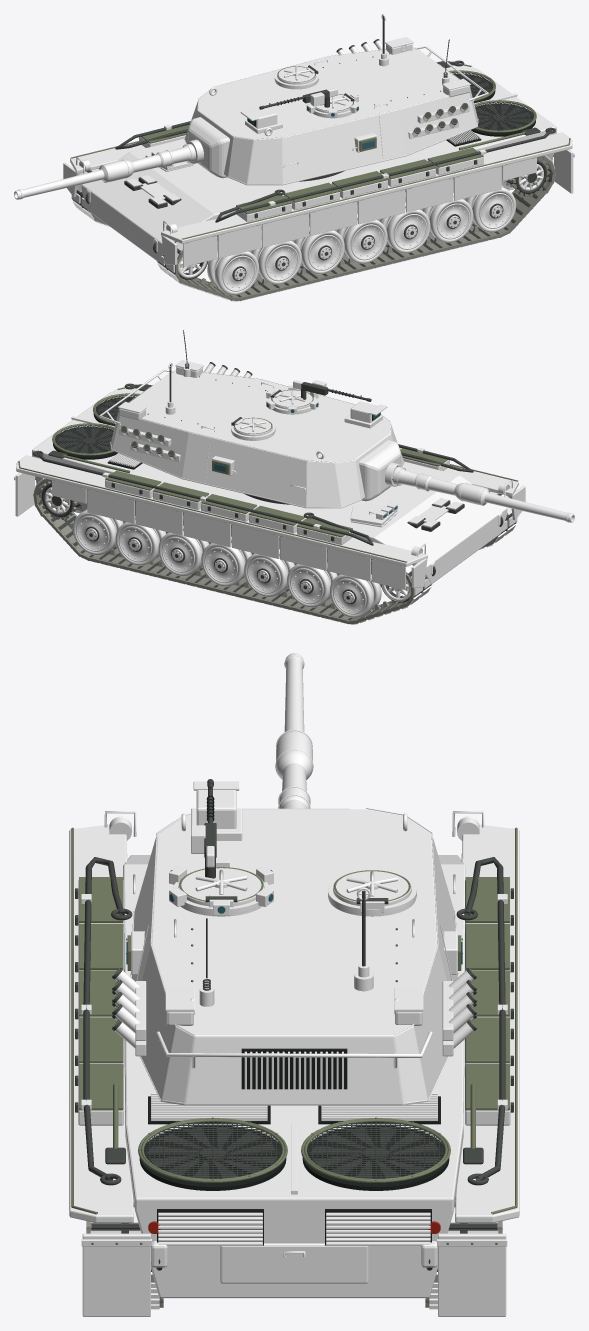
The model's file is Leopard_2_early_prototype.glb.
3 renders of one model, top to bottom at view 1: azimuth 30°, elevation 25°; view 2: azimuth 150°, elevation 25°; view 3: azimuth 270°, elevation 25°, orthographic. The views are drawn at different scales.
Visible parts, largest first — view 1: Turret_Main_WeldedShell, Hull_Main_WeldedShell, R_FullLength_Fender, Gun_ExternalTube_HollowMuzzle, Gun_Mantlet_Armored_Shield, R_TowCable_Main, R_Skirt_Panel_04, R_Skirt_Panel_05, R_Skirt_Panel_07, R_Skirt_Panel_06, R_Skirt_Panel_03, R_Skirt_Panel_02 (+35 smaller); view 2: Turret_Main_WeldedShell, Hull_Main_WeldedShell, L_FullLength_Fender, Gun_ExternalTube_HollowMuzzle, Gun_Mantlet_Armored_Shield, L_TowCable_Main, L_Skirt_Panel_04, L_Skirt_Panel_05, L_Skirt_Panel_07, L_Skirt_Panel_06, L_Skirt_Panel_03, L_Skirt_Panel_02 (+37 smaller); view 3: Turret_Main_WeldedShell, Hull_Main_WeldedShell, L_FullLength_Fender, R_FullLength_Fender, Rear_Service_Access_Hatch, L_Rear_RubberFlap, R_Rear_RubberFlap, Gun_ExternalTube_HollowMuzzle, Turret_Rear_Vent_Recess, L_Fan_Recess, R_Fan_Recess, L_TowCable_Main (+24 smaller).
Part boxes in pixels (left/top/right/bottom): Turret_Main_WeldedShell: left=185, top=48, right=477, bottom=185; Hull_Main_WeldedShell: left=81, top=68, right=556, bottom=264; R_FullLength_Fender: left=161, top=132, right=572, bottom=243; Gun_ExternalTube_HollowMuzzle: left=14, top=144, right=195, bottom=199; Gun_Mantlet_Armored_Shield: left=188, top=117, right=229, bottom=178; R_TowCable_Main: left=215, top=129, right=551, bottom=222; R_Skirt_Panel_04: left=309, top=201, right=357, bottom=235; R_Skirt_Panel_05: left=358, top=190, right=405, bottom=224; R_Skirt_Panel_07: left=454, top=166, right=501, bottom=200; R_Skirt_Panel_06: left=406, top=178, right=453, bottom=212; R_Skirt_Panel_03: left=262, top=213, right=308, bottom=247; R_Skirt_Panel_02: left=218, top=224, right=261, bottom=258; Turret_Main_WeldedShell: left=111, top=371, right=403, bottom=508; Hull_Main_WeldedShell: left=32, top=391, right=507, bottom=587; L_FullLength_Fender: left=16, top=455, right=427, bottom=566; Gun_ExternalTube_HollowMuzzle: left=393, top=467, right=574, bottom=522; Gun_Mantlet_Armored_Shield: left=359, top=440, right=400, bottom=501; L_TowCable_Main: left=37, top=452, right=373, bottom=545; L_Skirt_Panel_04: left=231, top=524, right=279, bottom=558; L_Skirt_Panel_05: left=183, top=513, right=230, bottom=547; L_Skirt_Panel_07: left=87, top=489, right=134, bottom=523; L_Skirt_Panel_06: left=135, top=501, right=182, bottom=535; L_Skirt_Panel_03: left=280, top=536, right=326, bottom=570; L_Skirt_Panel_02: left=327, top=547, right=370, bottom=581; Turret_Main_WeldedShell: left=131, top=809, right=457, bottom=1105; Hull_Main_WeldedShell: left=123, top=855, right=465, bottom=1298; L_FullLength_Fender: left=455, top=824, right=519, bottom=1222; R_FullLength_Fender: left=69, top=824, right=133, bottom=1222; Rear_Service_Access_Hatch: left=220, top=1243, right=368, bottom=1283; L_Rear_RubberFlap: left=438, top=1233, right=506, bottom=1316; R_Rear_RubberFlap: left=82, top=1233, right=150, bottom=1316; Gun_ExternalTube_HollowMuzzle: left=276, top=653, right=312, bottom=808; Turret_Rear_Vent_Recess: left=241, top=1048, right=347, bottom=1089; L_Fan_Recess: left=302, top=1126, right=449, bottom=1190; R_Fan_Recess: left=139, top=1126, right=286, bottom=1190; L_TowCable_Main: left=464, top=857, right=505, bottom=1180.
Bounding box in the file's own units: 9.61 × 3.36 × 3.7.
